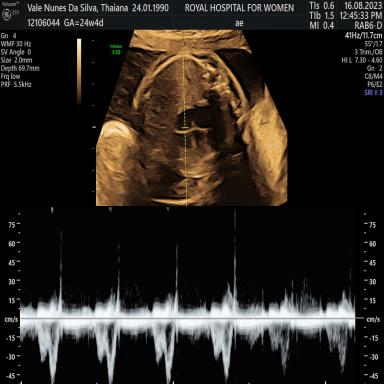Ultrasound-Waves: (23, 216, 356, 379)
